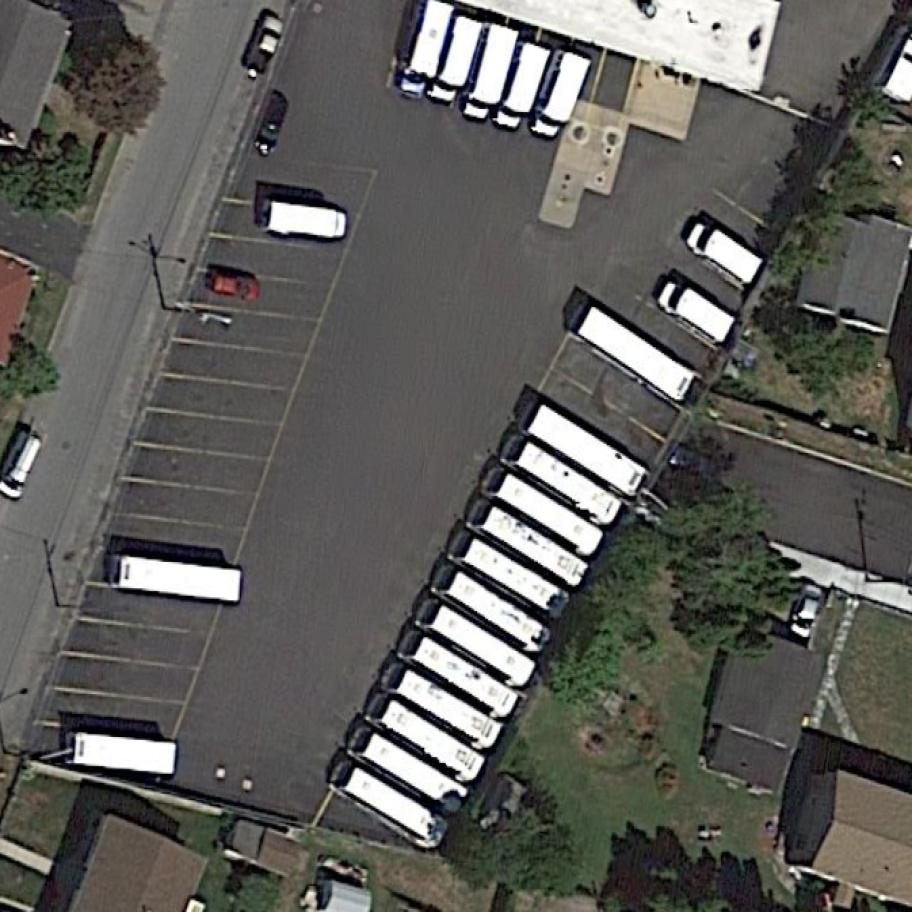large-vehicle: (341, 719, 478, 823), (573, 302, 703, 408), (460, 494, 595, 596), (376, 654, 512, 755), (323, 752, 456, 855), (359, 686, 493, 786), (441, 524, 576, 623), (393, 623, 526, 723), (480, 462, 610, 562), (526, 401, 655, 501), (413, 593, 541, 692), (429, 562, 556, 654), (514, 439, 630, 528), (103, 553, 247, 605), (66, 728, 182, 778)
small-vehicle: (525, 43, 596, 149), (653, 273, 743, 349), (683, 213, 771, 290), (458, 18, 522, 123), (490, 35, 552, 133), (393, 1, 453, 100), (427, 14, 486, 111), (257, 197, 351, 243), (237, 8, 287, 81), (0, 428, 46, 499), (251, 89, 295, 161), (786, 577, 826, 645), (203, 264, 267, 302)
